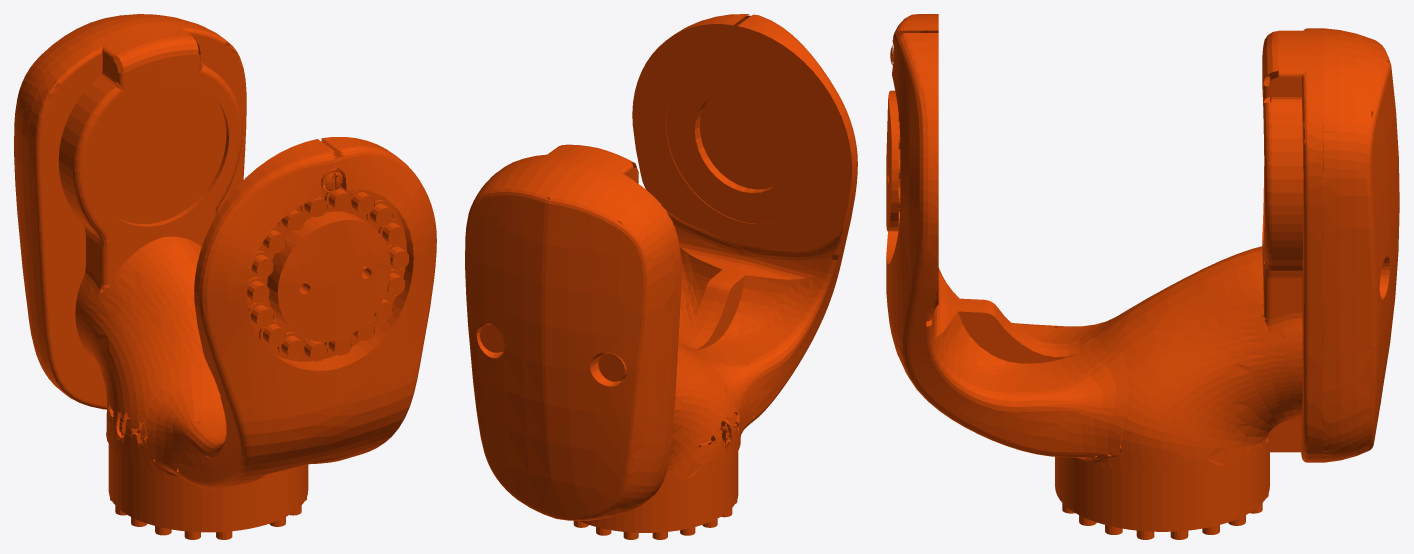
The picture shows the model from 3 angles, left to right: view 1: azimuth 30°, elevation 25°; view 2: azimuth 150°, elevation 25°; view 3: azimuth 270°, elevation 25°; orthographic projection. The views are drawn at different scales.
Parts seen in each view (by area): view 1: 1; view 2: 1; view 3: 1.
Boxes of the visible parts, x1,y1,x2,y2 form: 1: (14, 14, 436, 539); 1: (465, 14, 857, 539); 1: (886, 14, 1399, 539).
Bounding box in the file's own units: 0.115 × 0.202 × 0.2008.
